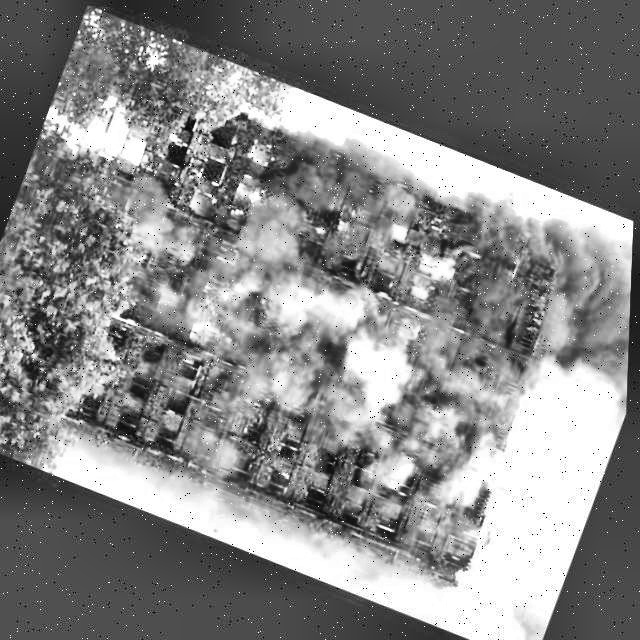Fire: (405, 198, 476, 308), (231, 127, 290, 210), (188, 307, 241, 354)
Smoke: (158, 250, 633, 640), (442, 171, 636, 390), (245, 112, 436, 300), (80, 173, 219, 343)
